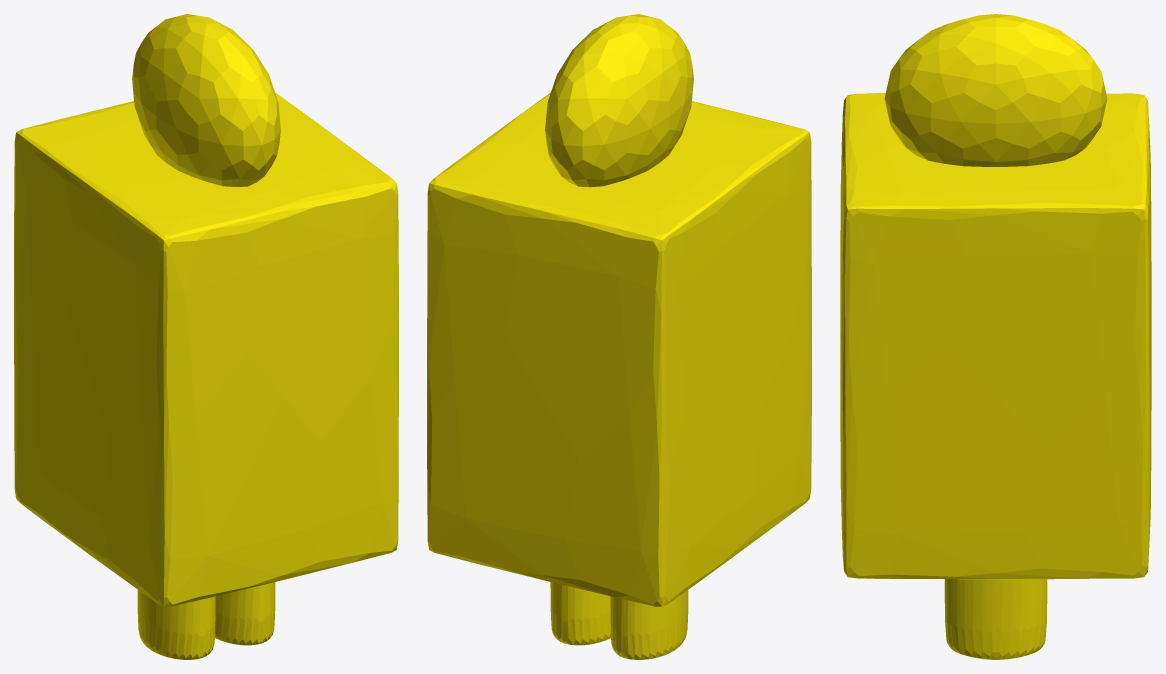
Rendered from hero3.glb.
3 views of the same model, side by side, from view 1: azimuth 30°, elevation 25°; view 2: azimuth 150°, elevation 25°; view 3: azimuth 270°, elevation 25° (orthographic).
Visible parts, largest first — view 1: hero3; view 2: hero3; view 3: hero3.
Boxes of the visible parts, left/top/right/bottom form: hero3: left=14, top=14, right=398, bottom=659; hero3: left=427, top=14, right=811, bottom=659; hero3: left=840, top=14, right=1151, bottom=659.
Size of the model in its own units: 0.7995 by 1.96 by 0.8989.
